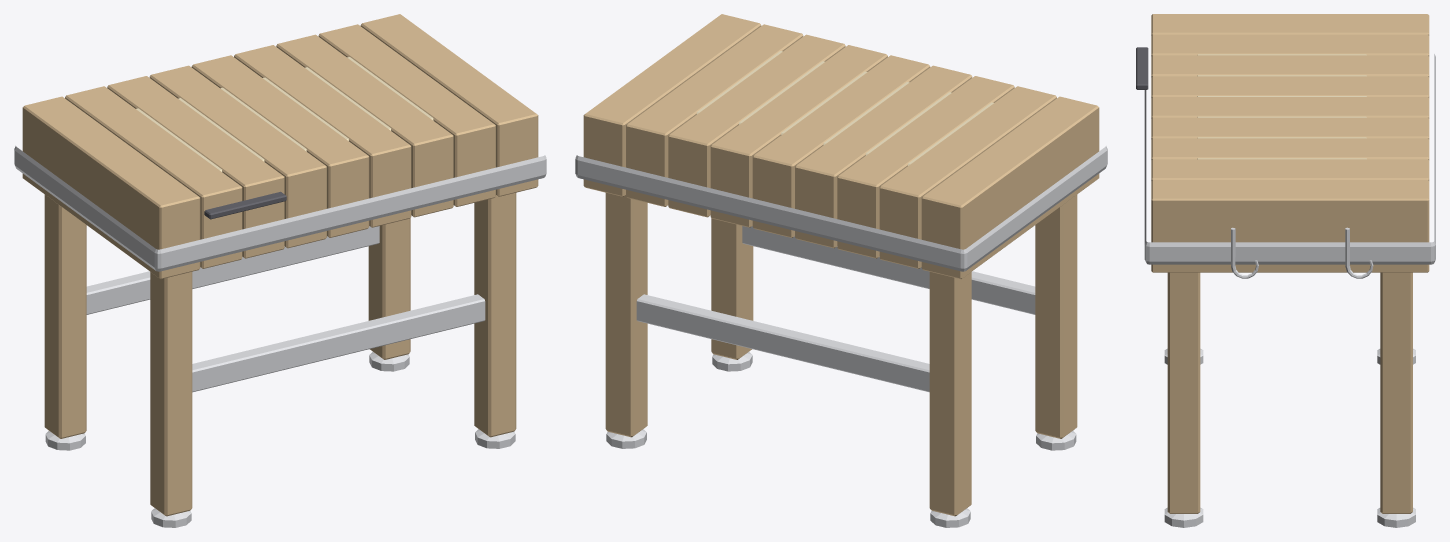
The model's file is butchers-shop-and-deli-counter-butchers-block-table-91c936a6__34443.glb.
The picture shows the model from 3 angles, left to right: view 1: azimuth 30°, elevation 25°; view 2: azimuth 150°, elevation 25°; view 3: azimuth 270°, elevation 25°; orthographic projection.
Visible parts, largest first — view 1: butchers-block-table; view 2: butchers-block-table; view 3: butchers-block-table.
Boxes of the visible parts, x1,y1,x2,y2 form: butchers-block-table: [14, 14, 546, 527]; butchers-block-table: [575, 14, 1107, 527]; butchers-block-table: [1136, 14, 1435, 527].
Bounding box in the file's own units: 1.14 × 0.9 × 0.733.
